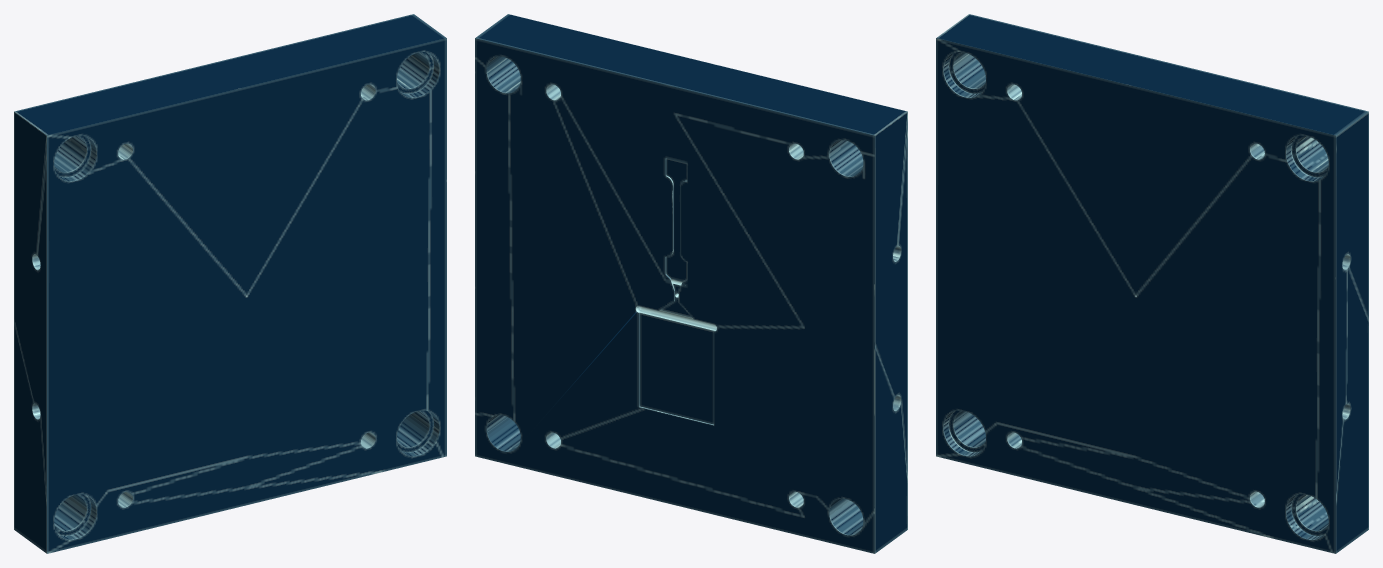
Rendered from Mold3- Cavity retainer plate-M.glb.
The picture shows the model from 3 angles, left to right: view 1: azimuth 30°, elevation 25°; view 2: azimuth 150°, elevation 25°; view 3: azimuth 330°, elevation 25°; orthographic projection.
Visible parts, largest first — view 1: Block porte empreinte supérieur; view 2: Block porte empreinte supérieur; view 3: Block porte empreinte supérieur.
Part boxes in pixels (x1,y1,x2,y2): Block porte empreinte supérieur: (14,14,446,553); Block porte empreinte supérieur: (475,14,907,553); Block porte empreinte supérieur: (936,14,1368,553).
Size of the model in its own units: 11.58 by 11.58 by 1.65.
1 material, 1 textured.
